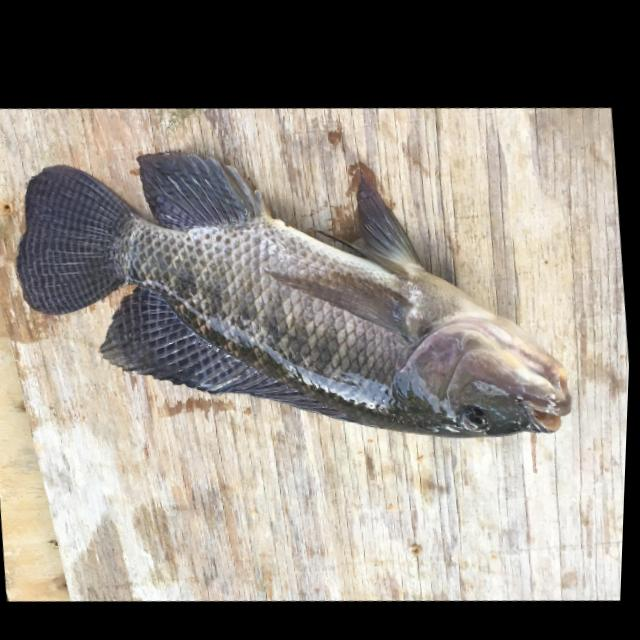Tilapia: (0, 97, 583, 493)
